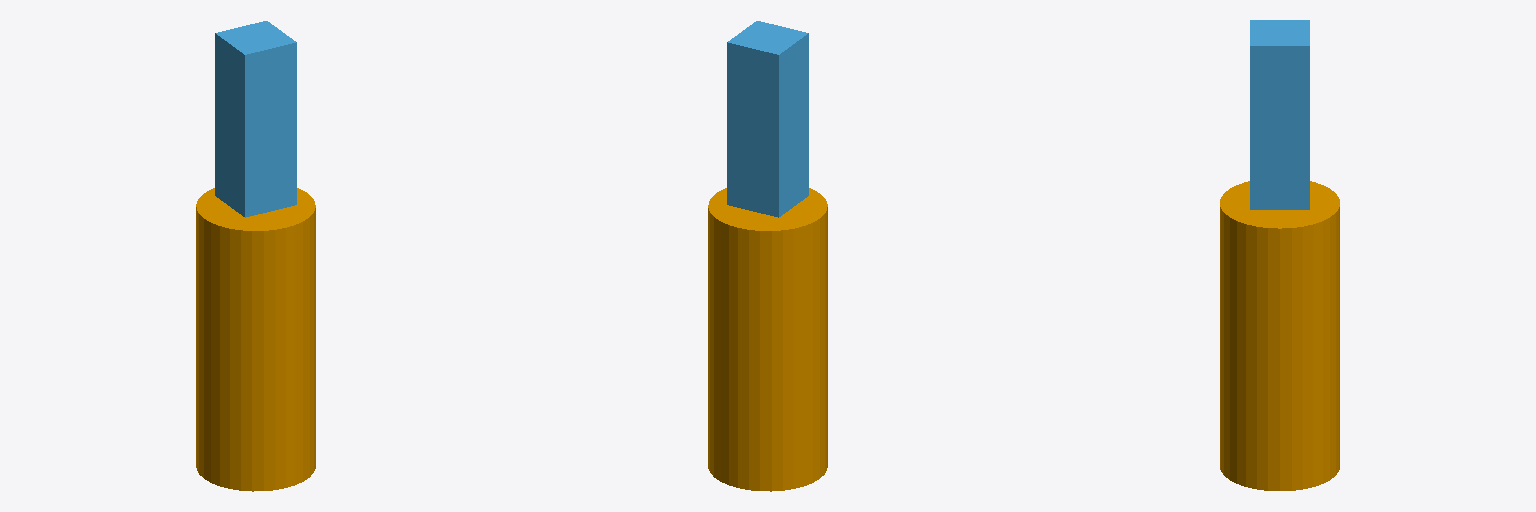
URDF robot description (simple_example):
<?xml version="1.0"?>
<robot name="simple_example">
  <link name="base_link">
    <inertial>
        <mass value="10" />
        <inertia ixx="0.4" ixy="0.0" ixz="0.0" iyy="0.4" iyz="0.0" izz="0.2"/>
    </inertial>
    <collision>
      <geometry>
        <cylinder radius="0.05" length="0.24" />
      </geometry>
        </collision>
    <visual>
      <geometry>
        <cylinder radius="0.05" length="0.24" />
      </geometry>
    </visual>
  </link>

  <link name="second_link">
    <inertial>
        <mass value="0.18" />
        <inertia ixx="0.0002835" ixy="0.0" ixz="0.0" iyy="0.0002835" iyz="0.0" izz="0.000324" />
    </inertial>
    <origin rpy="0.0 0.0 0.0" xyz="0.0 0.0 0.0" />
    <collision>
      <geometry>
        <box size="0.05 0.05 0.15" />
      </geometry>
    </collision>
    <visual>
      <geometry>
        <box size="0.05 0.05 0.15" />
      </geometry>
    </visual>
  </link>

  <joint name="base_to_second_joint" type="continuous">
    <parent link="base_link"/>
    <child link="second_link"/>
    <axis xyz="1 0 0"/>
    <origin xyz="0.0 0.0 0.2" rpy="0.0 0.0 0.0"/> 
  </joint>

  <!--                GAZEBO RELATED PART                             -->

  <!-- ROS Control plugin for Gazebo -->
  <gazebo>
    <plugin name="gazebo_ros_control" filename="libgazebo_ros_control.so">
      <robotNamespace>/simple_model</robotNamespace>
    </plugin>
  </gazebo>

  <!-- transmission -->
  <transmission name="base_to_second_trans">
    <type>transmission_interface/SimpleTransmission</type>
    <actuator name="motor1">
      <mechanicalReduction>1</mechanicalReduction>
    </actuator>
    <joint name="base_to_second_joint">
      <hardwareInterface>hardware_interface/EffortJointInterface</hardwareInterface>
    </joint>
  </transmission>
</robot>

--- Facts derived from the render (not from the file) ---
The picture shows the robot from 3 angles, left to right: view 1: azimuth 30°, elevation 25°; view 2: azimuth 150°, elevation 25°; view 3: azimuth 270°, elevation 25°; orthographic projection.
Robot: simple_example — 2 links, 1 joints (1 continuous); root link base_link; default pose: every joint at zero.
Links seen in each view (by area): view 1: base_link, second_link; view 2: base_link, second_link; view 3: base_link, second_link.
Boxes of the visible links, x1=… form: base_link: x1=196, y1=188, x2=315, y2=491; second_link: x1=215, y1=21, x2=296, y2=217; base_link: x1=708, y1=188, x2=827, y2=491; second_link: x1=727, y1=21, x2=808, y2=217; base_link: x1=1220, y1=181, x2=1339, y2=490; second_link: x1=1250, y1=20, x2=1309, y2=209.
Size in the robot's own frame: 0.1 by 0.1 by 0.395 metres.
Geometry: primitives only (box / cylinder / sphere), no mesh files.